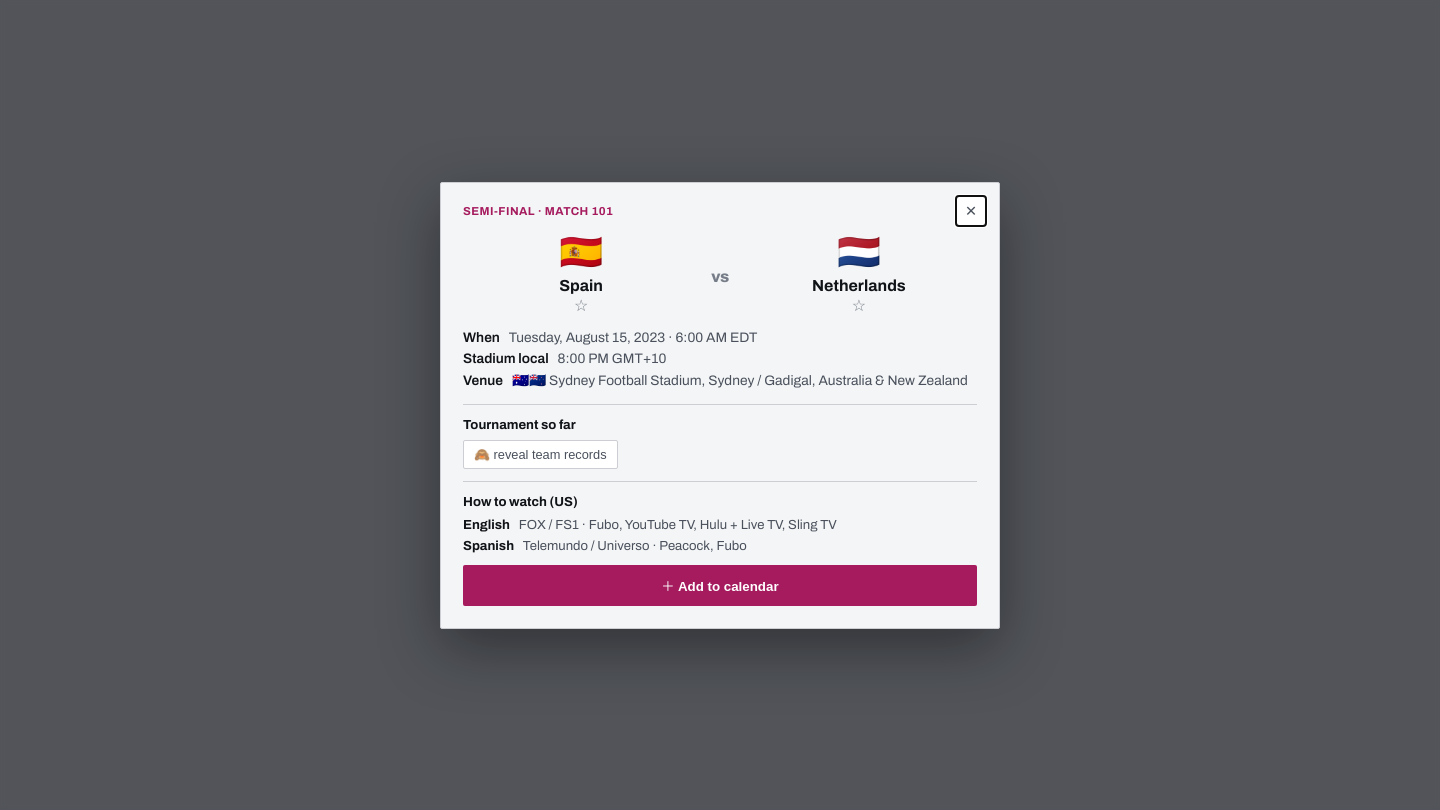
Test: MatchDetail tale of the tape › hides the records behind a reveal in spoiler-free mode
The width and height of the screenshot is (1440, 810).
Check: the text "W–D–L" is not shown
Step 1. Click the button "🙈 reveal team records" → (540, 454), box [463,440,618,468]
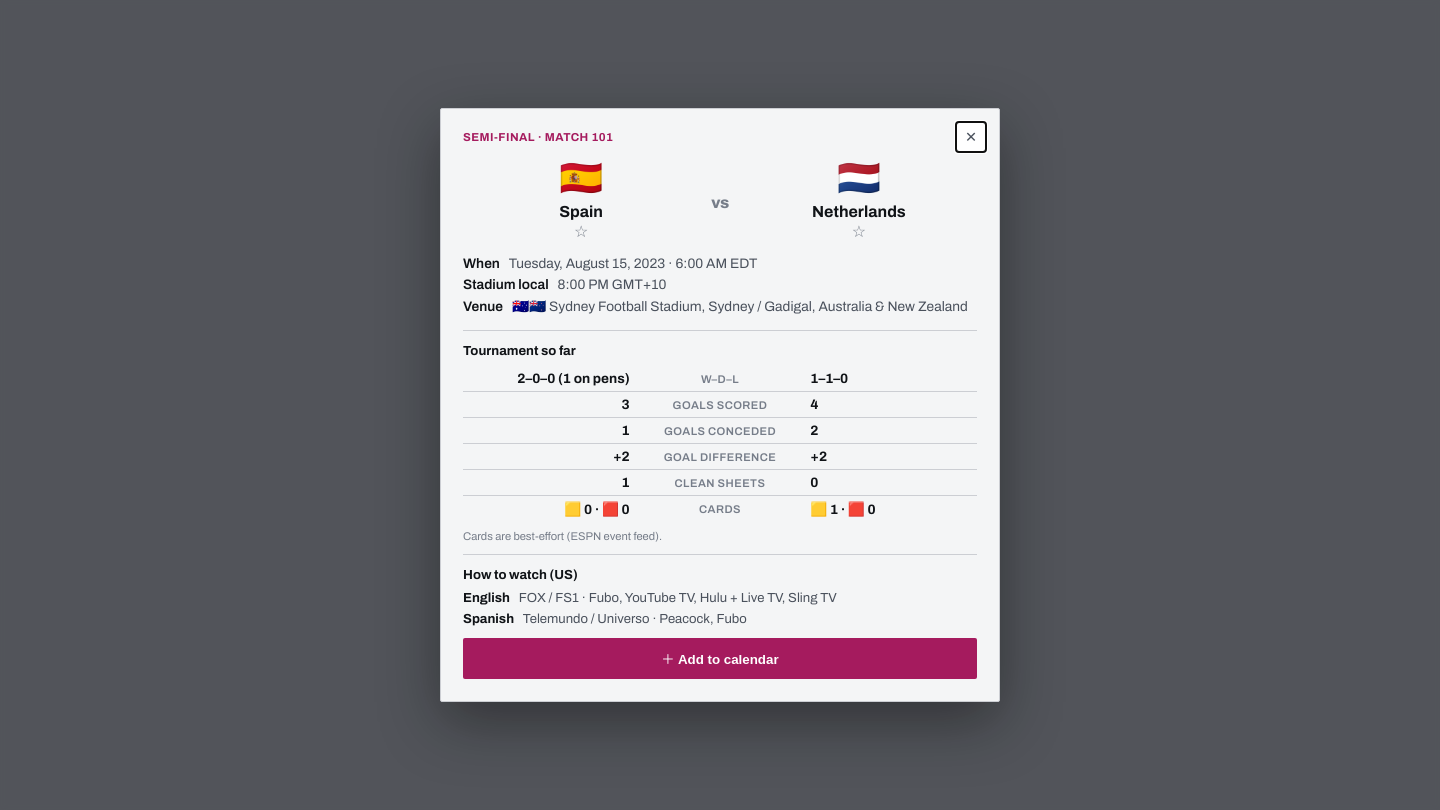
Check: the column heading "W–D–L" is shown, box [638,366,802,392]
